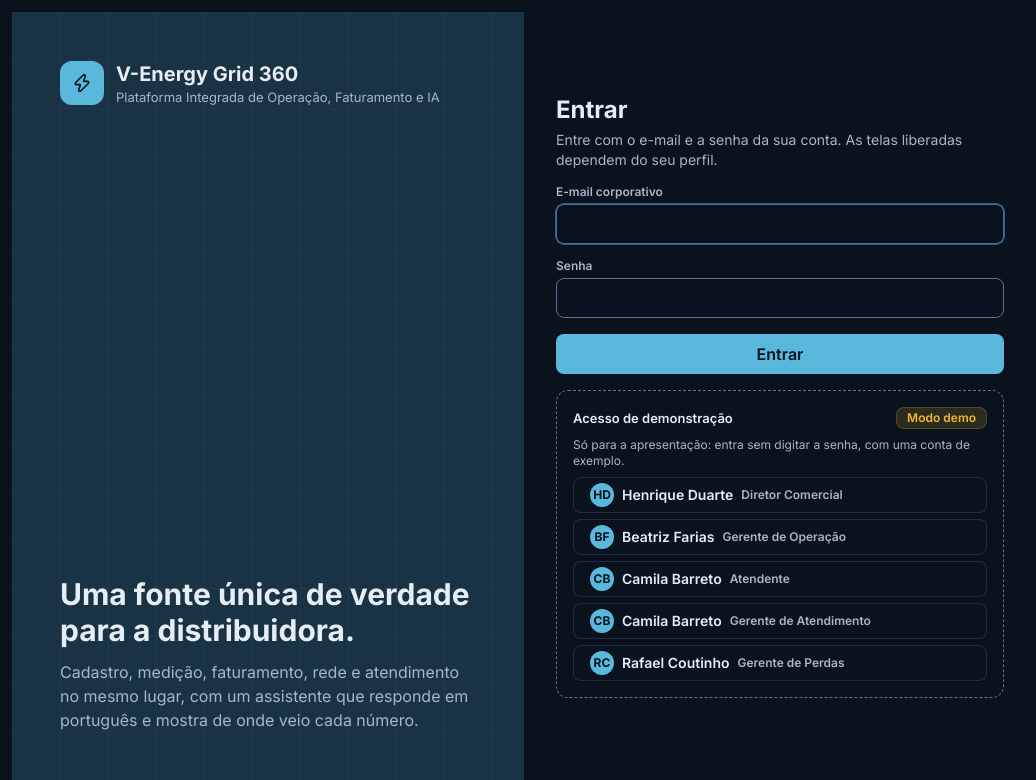
Test: LoginPage › formulário › limpa o erro ao digitar de novo
The width and height of the screenshot is (1036, 780).
Step 1. Type "alguem@gmail.com" into the field labelled "E-mail corporativo" → (780, 224), box [556,204,1004,244]
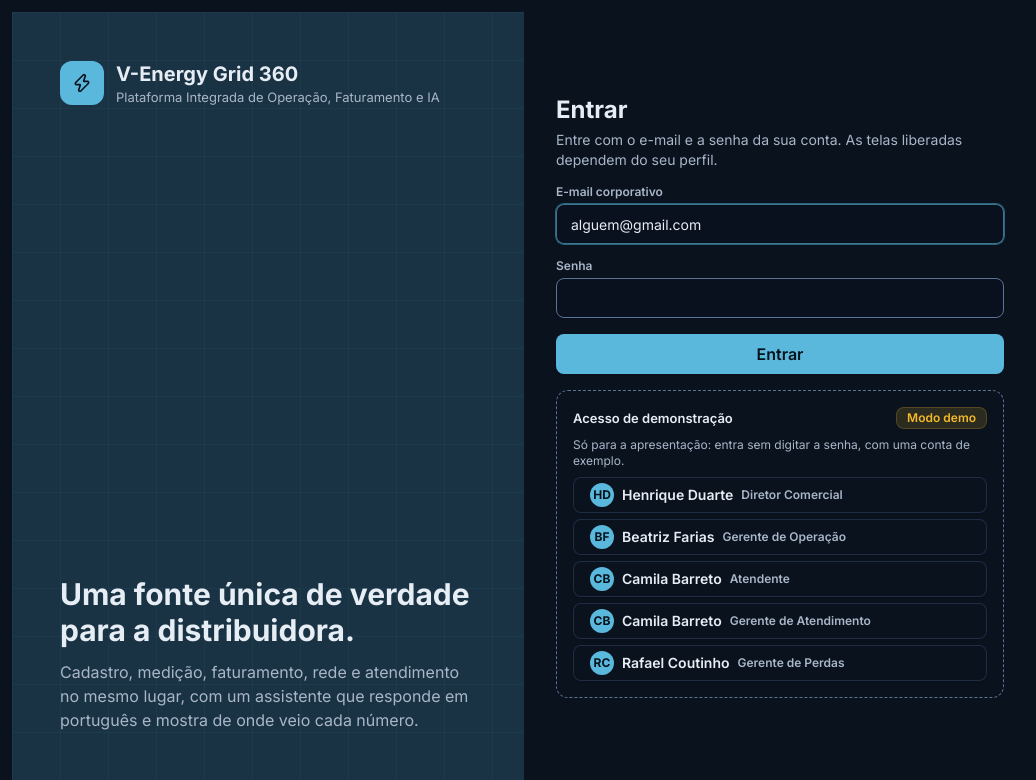
Step 2. Type "venergy123" into the password field labelled "Senha" → (780, 298), box [556,278,1004,318]
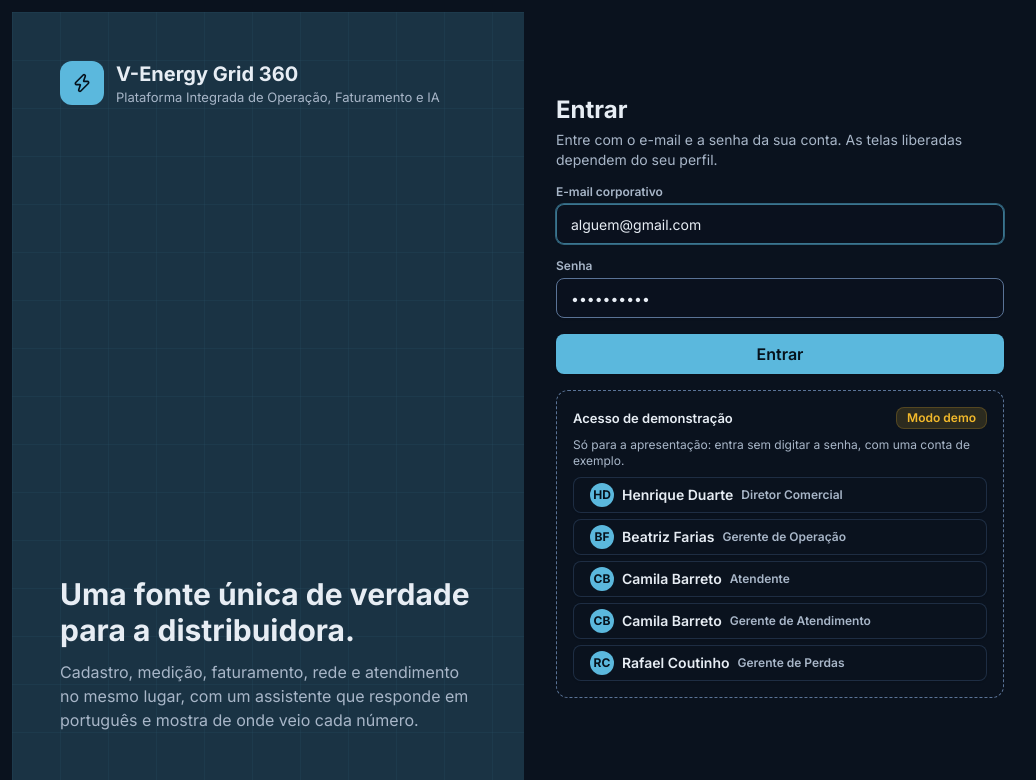
Step 3. Submit the form labelled "Senha", box [556,186,1004,374]
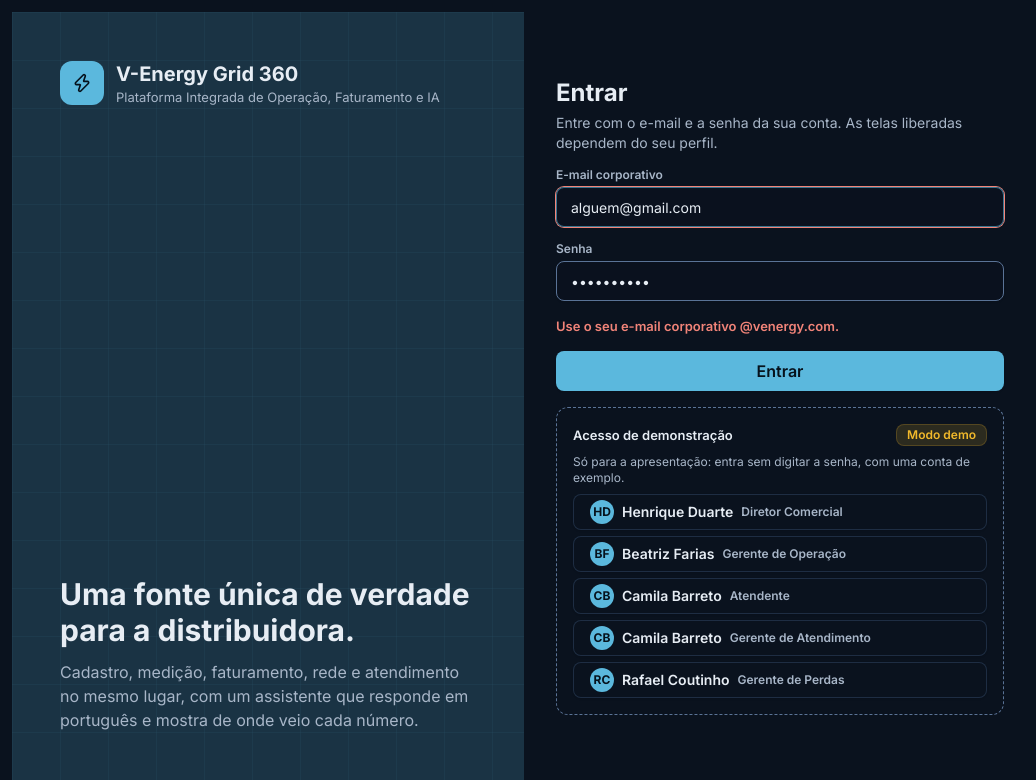
Step 4. Replace the text in the field labelled "E-mail corporativo" with "diretor@venergy.com" → (780, 207), box [556,187,1004,227]
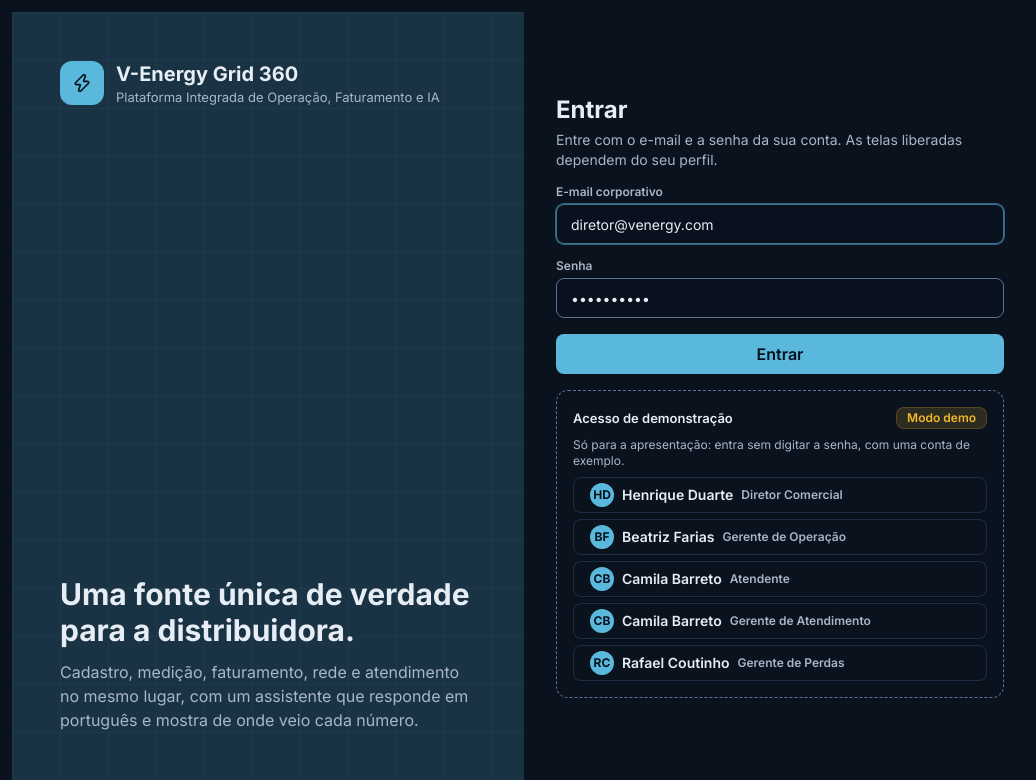
Result: the message "Use o seu e-mail corporativo @venergy.com." is gone
